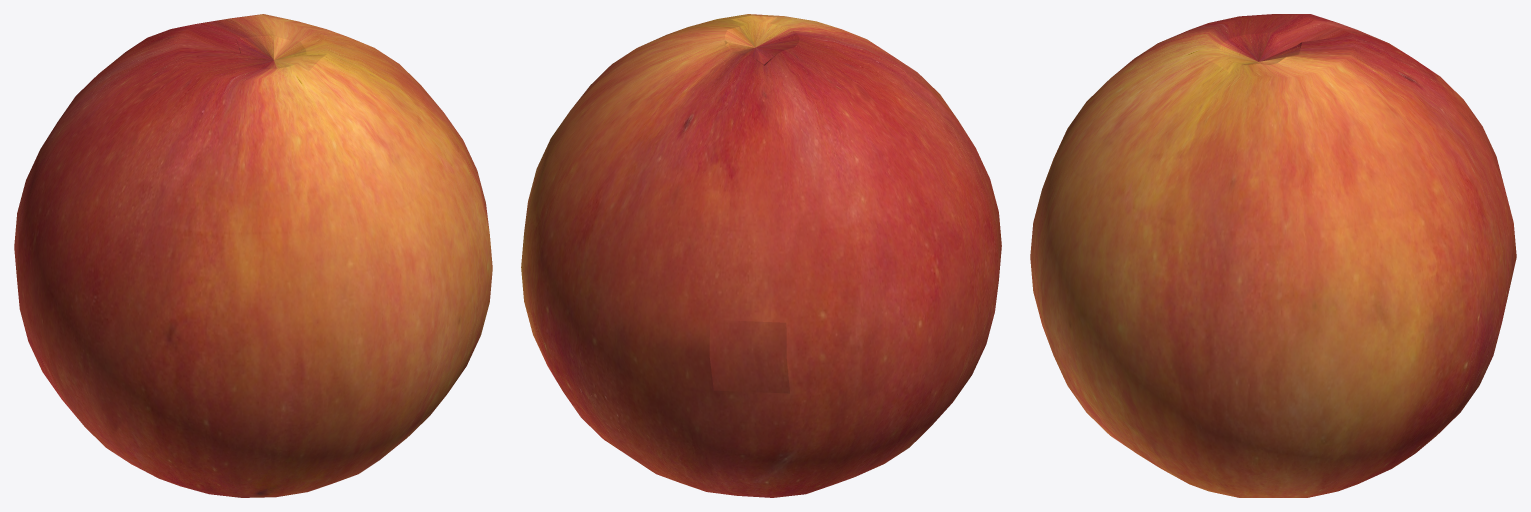
Rendered from apple.obj.
3 views of the same model, side by side, from view 1: azimuth 30°, elevation 25°; view 2: azimuth 150°, elevation 25°; view 3: azimuth 270°, elevation 25° (orthographic).
Visible parts, largest first — view 1: pSphere1; view 2: pSphere1; view 3: pSphere1.
Boxes of the visible parts, bbox=[...] form: pSphere1: bbox=[14, 14, 492, 497]; pSphere1: bbox=[521, 14, 1001, 497]; pSphere1: bbox=[1030, 14, 1516, 497].
Size of the model in its own units: 4.77 by 4.67 by 4.76.
1 material, 1 textured.
